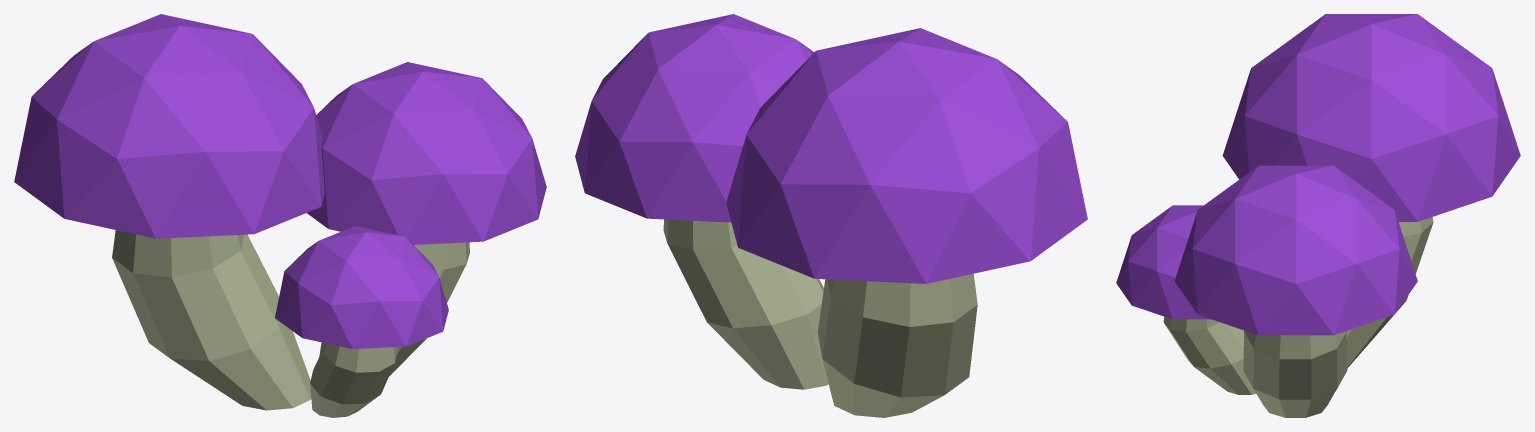
Rendered from mushroom.glb.
3 renders of one model, left to right at view 1: azimuth 30°, elevation 25°; view 2: azimuth 150°, elevation 25°; view 3: azimuth 270°, elevation 25°, orthographic. The views are drawn at different scales.
Parts seen in each view (by area): view 1: mushrooms.043; view 2: mushrooms.043; view 3: mushrooms.043.
Part boxes in pixels (<box>): mushrooms.043: <box>14,14,546,417</box>; mushrooms.043: <box>575,14,1087,417</box>; mushrooms.043: <box>1116,14,1520,417</box>.
Bounding box in the file's own units: 0.6771 × 0.5118 × 0.5801.
